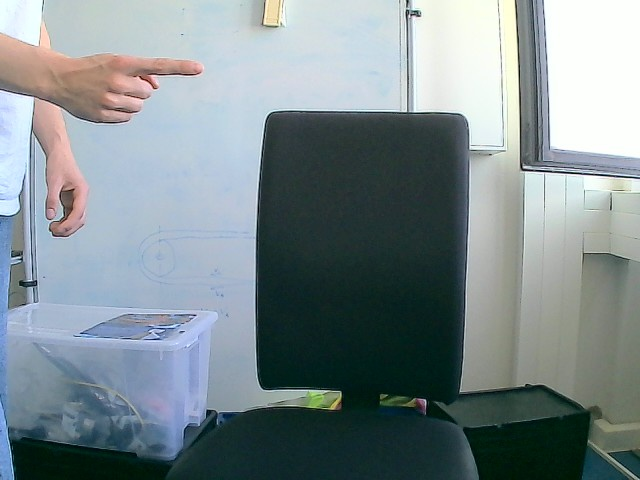left: (57, 51, 205, 125)
